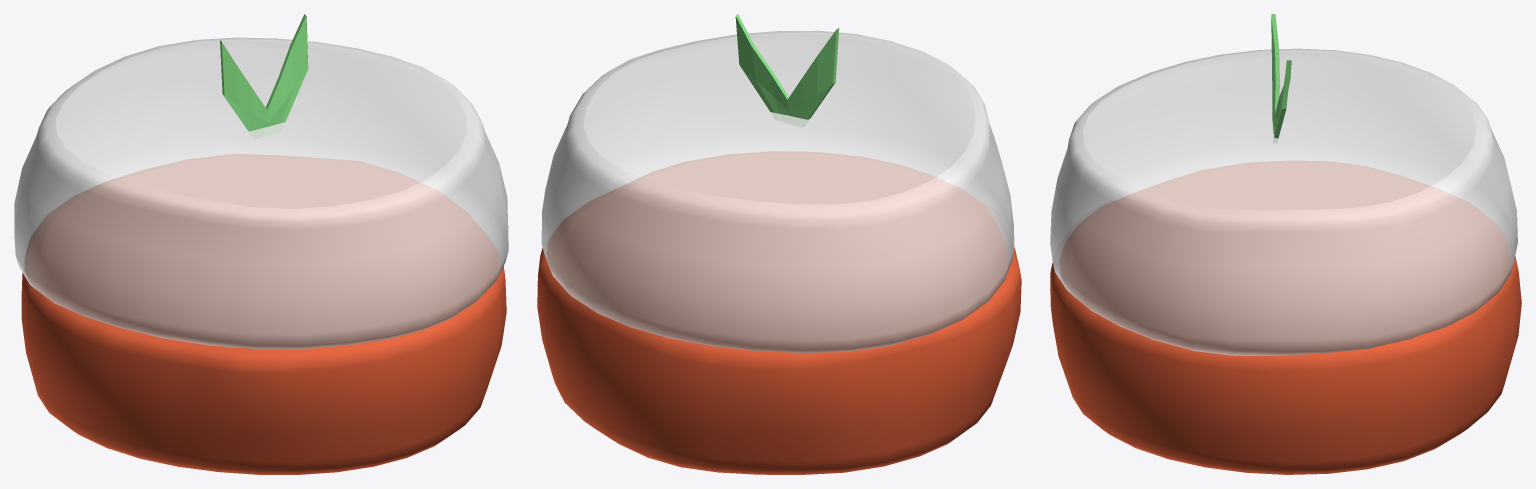
Rendered from kue.fbx.
3 views of the same model, side by side, from view 1: azimuth 30°, elevation 25°; view 2: azimuth 150°, elevation 25°; view 3: azimuth 270°, elevation 25° (orthographic). The views are drawn at different scales.
Visible parts, largest first — view 1: Cube.036; view 2: Cube.036; view 3: Cube.036.
Boxes of the visible parts, x1=… form: Cube.036: x1=14, y1=14, x2=508, y2=474; Cube.036: x1=537, y1=14, x2=1021, y2=474; Cube.036: x1=1050, y1=14, x2=1521, y2=474.
Bounding box in the file's own units: 53.64 × 44.66 × 53.86.
